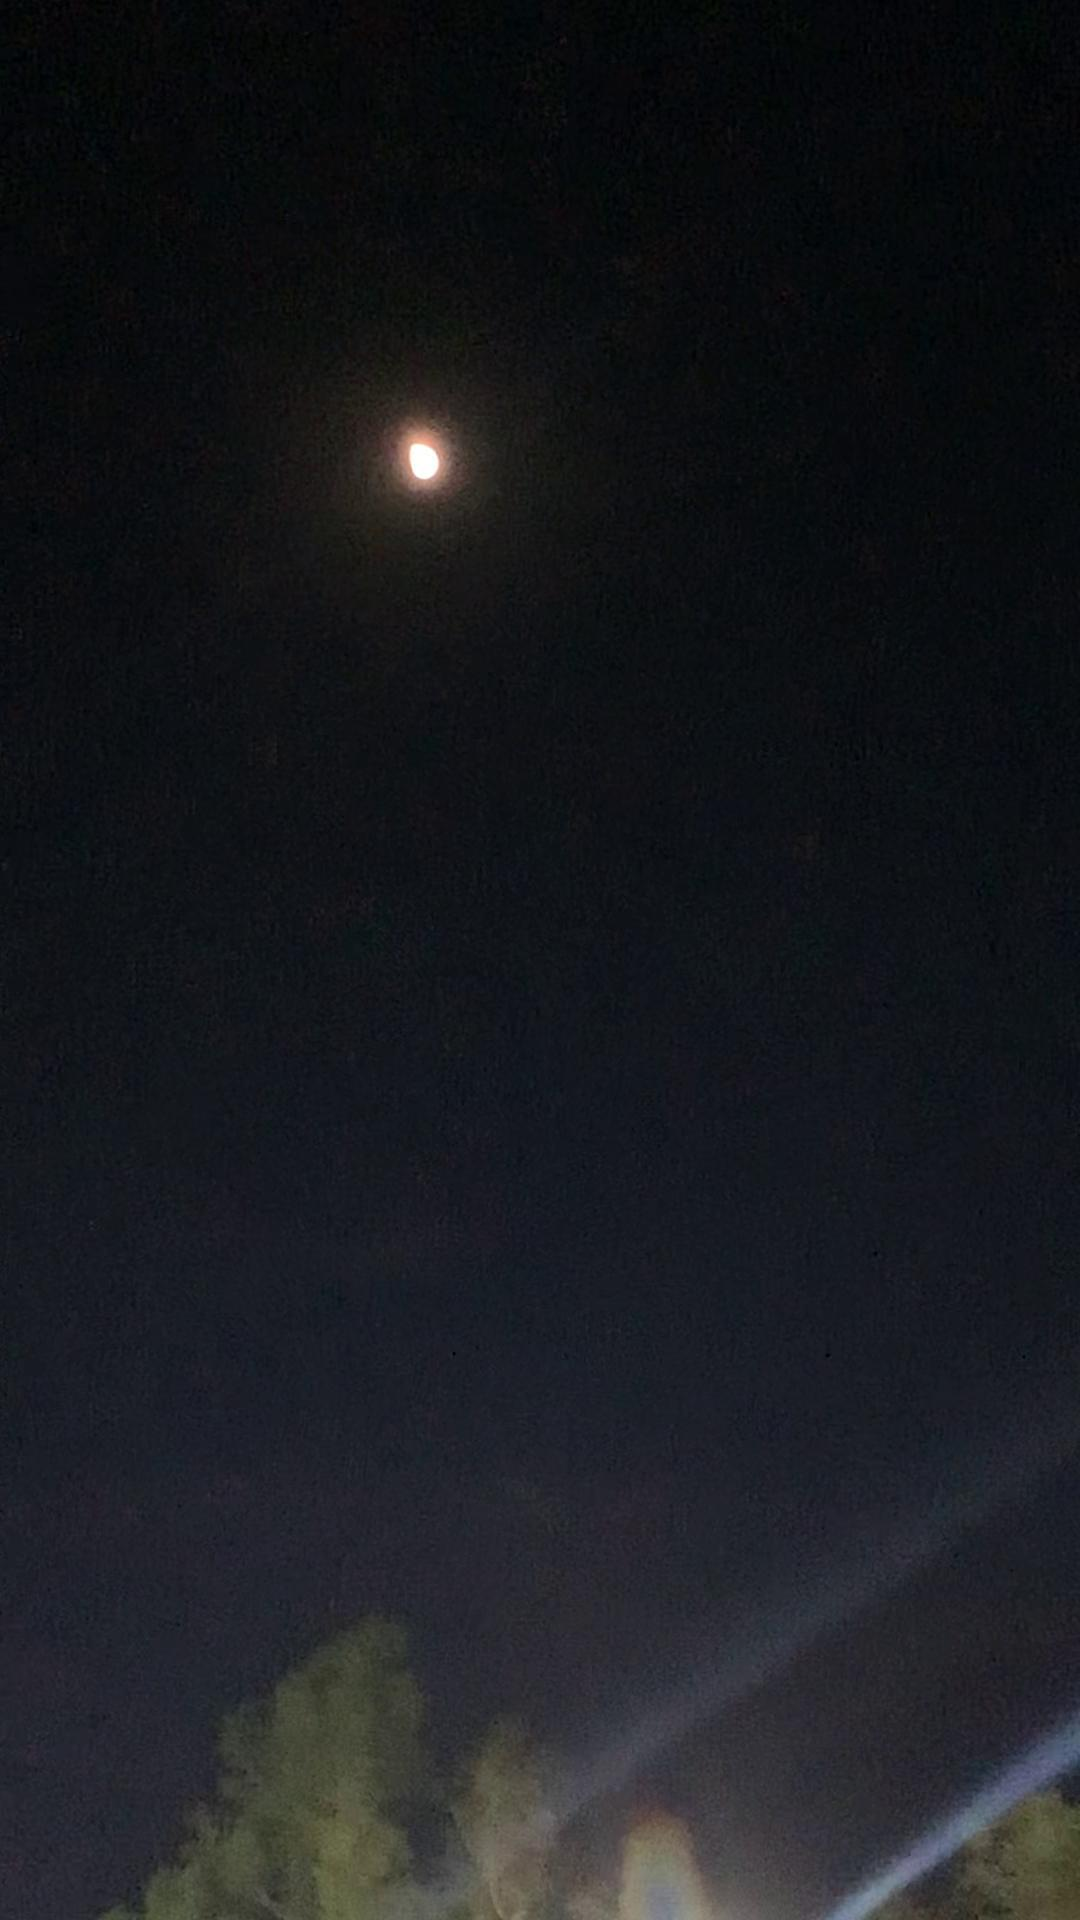moon: (386, 425, 463, 504)
